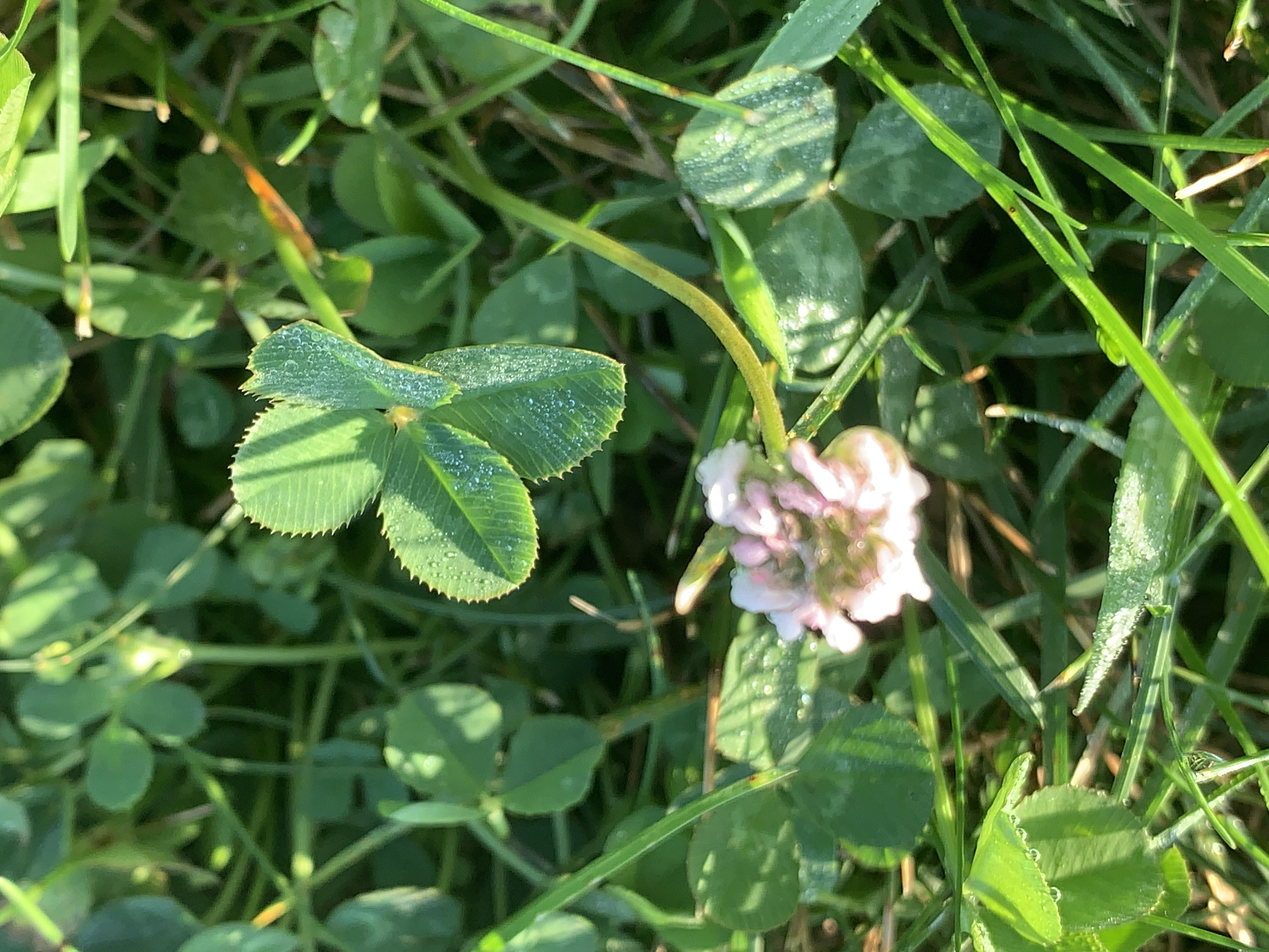4-Leaf-Clovers: (454, 171, 854, 468)
